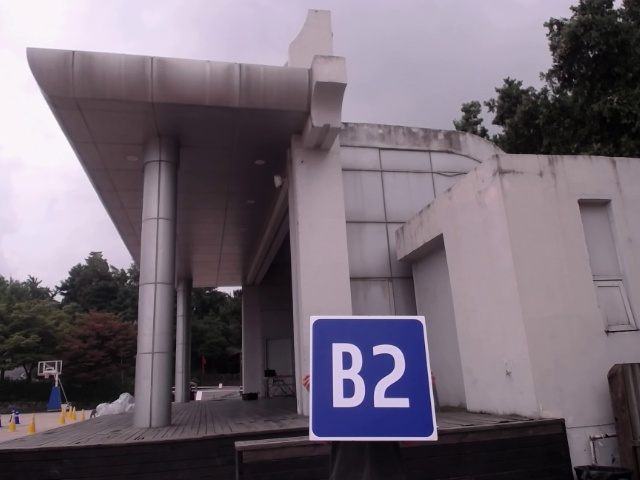delivery_b2: (310, 317, 434, 437)
